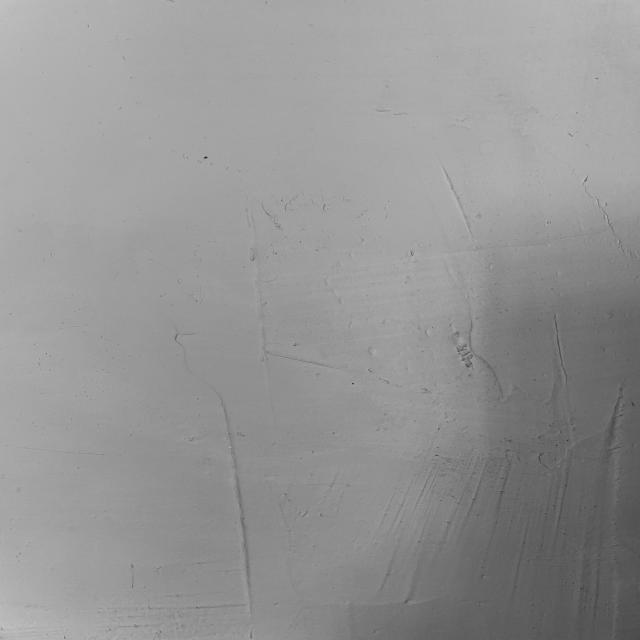rough and patchy surface: (23, 13, 636, 640)
